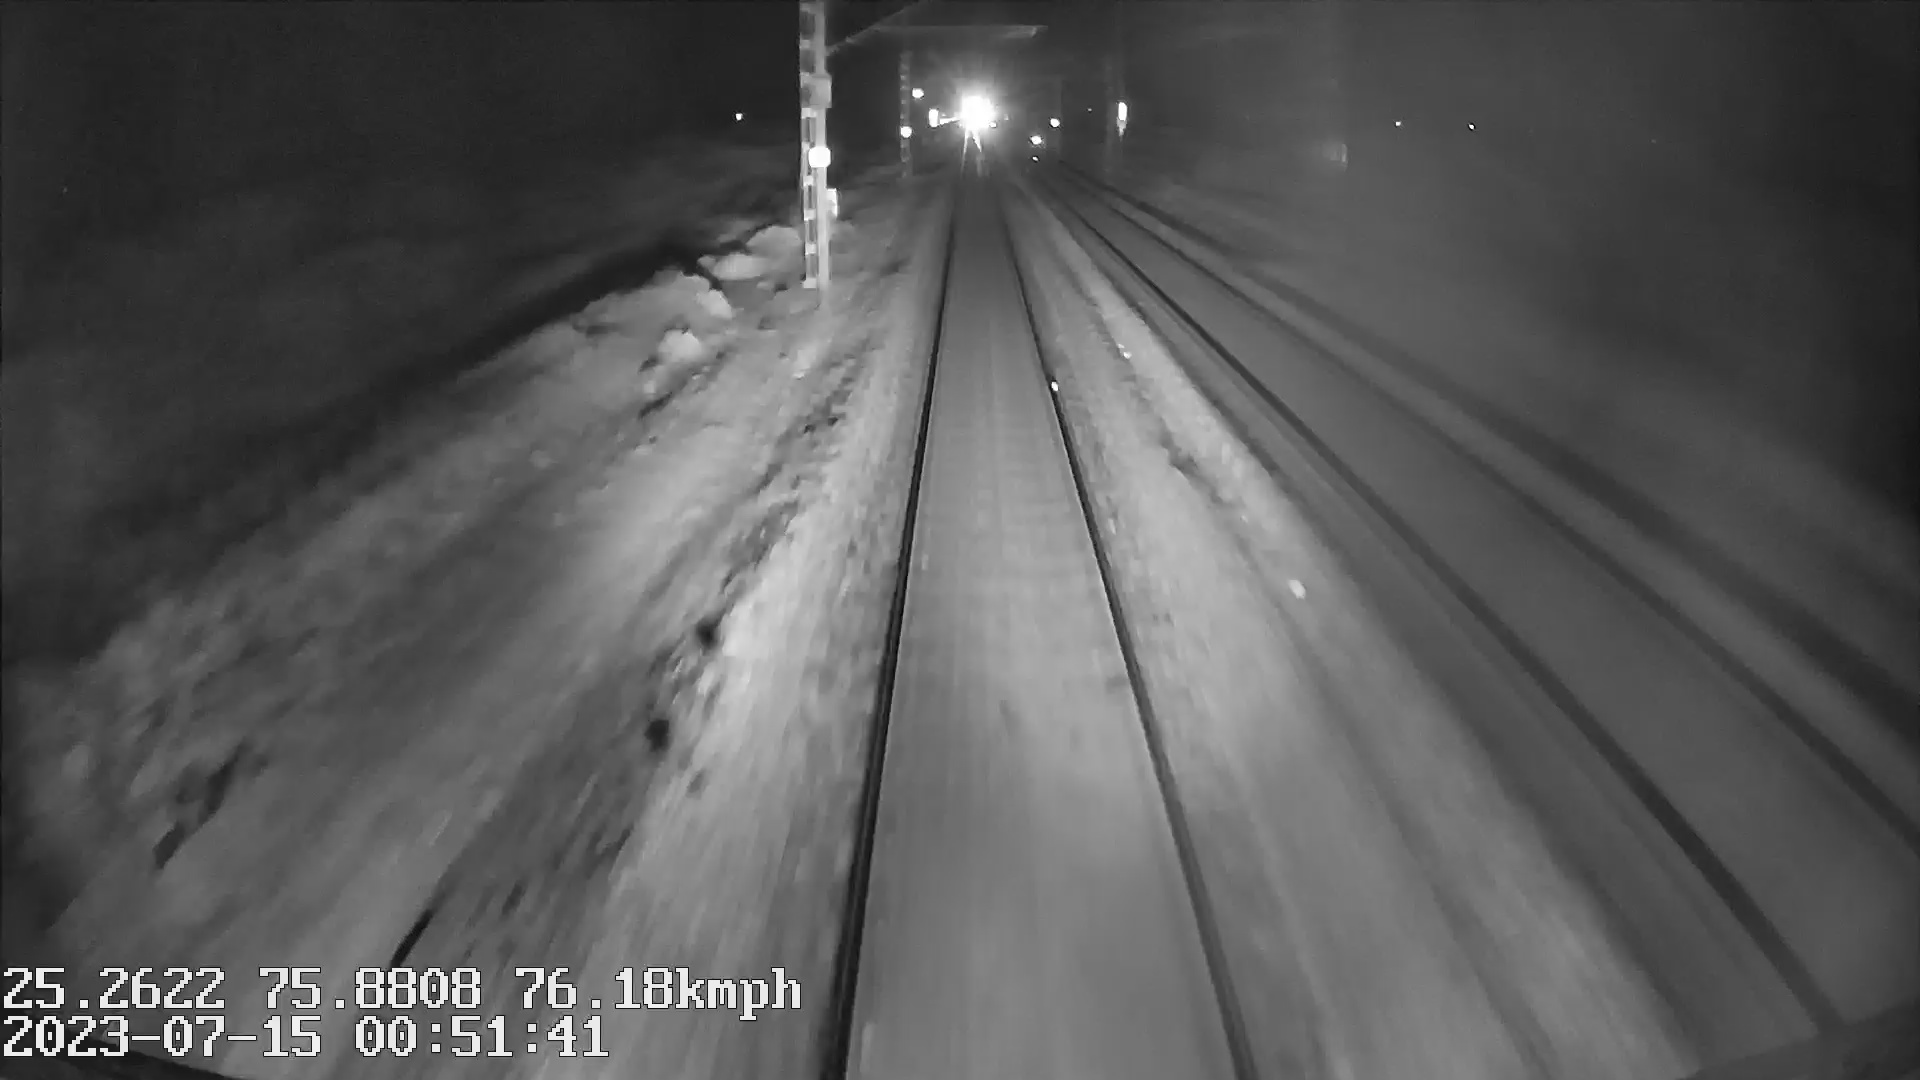track1: (840, 194, 1245, 1068)
track2: (1064, 190, 1908, 953)
